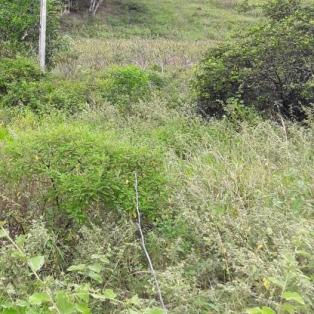Poste: (36, 0, 52, 80)
